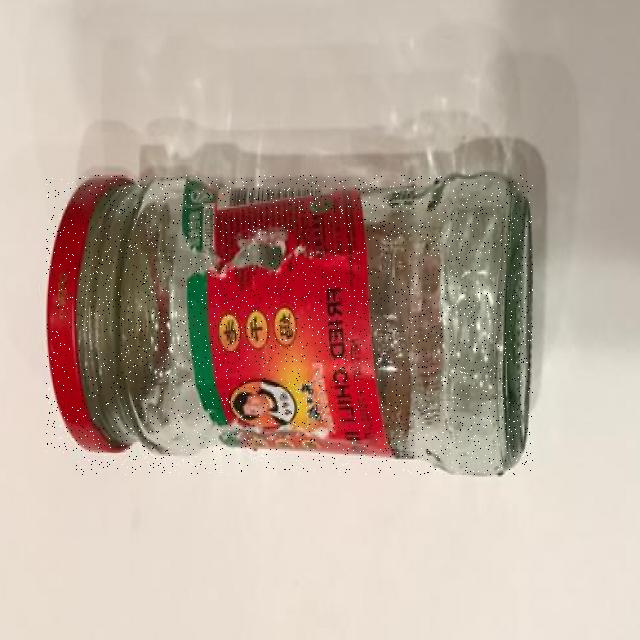glass: (76, 175, 533, 475)
metal: (46, 177, 132, 453)
